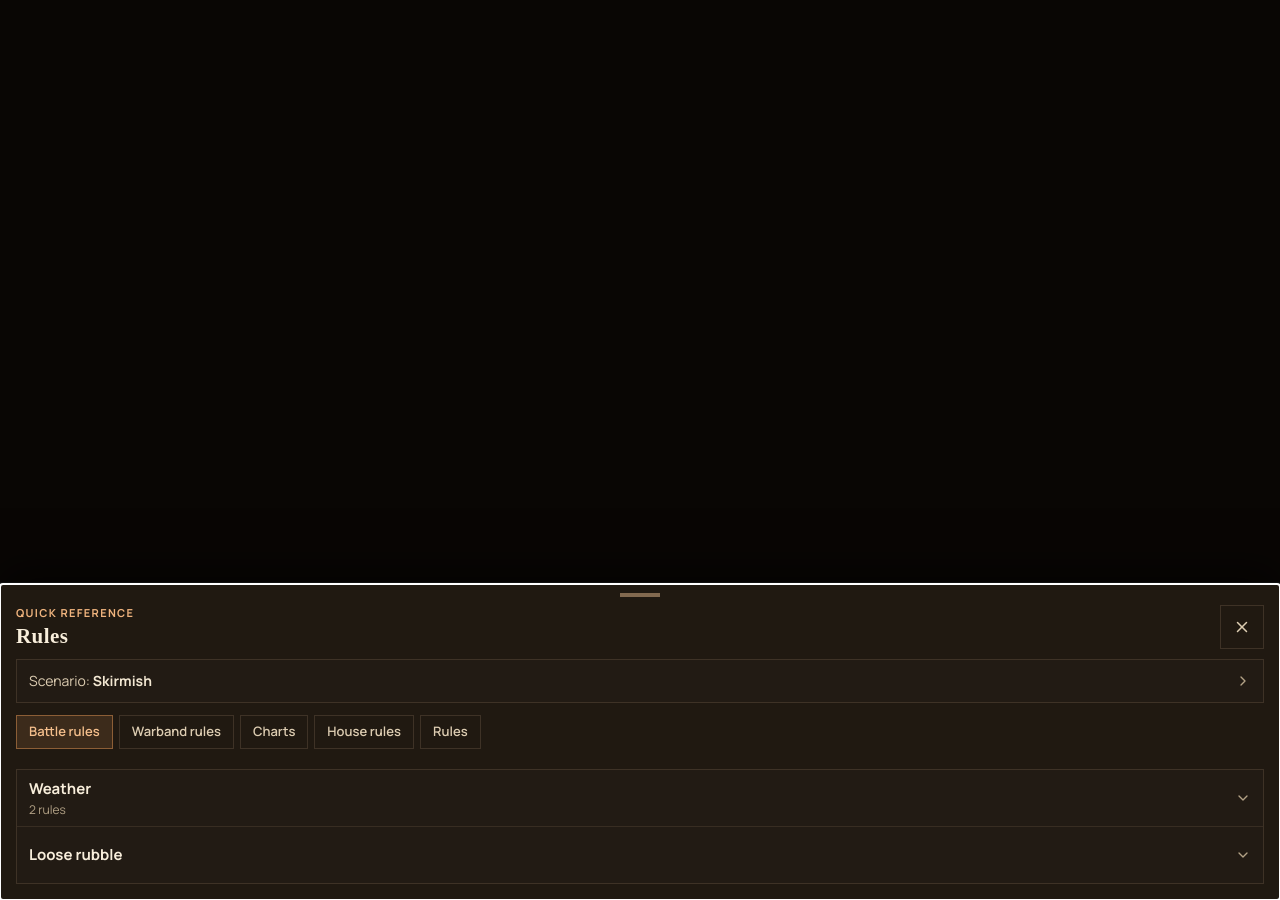
Test: BattleRulesSheet › groups the battle rules by umbrella, as the Campaign rules page does, opening in place
Click the button "Weather 2 rules" at (60, 789), box [17,770,1263,826]
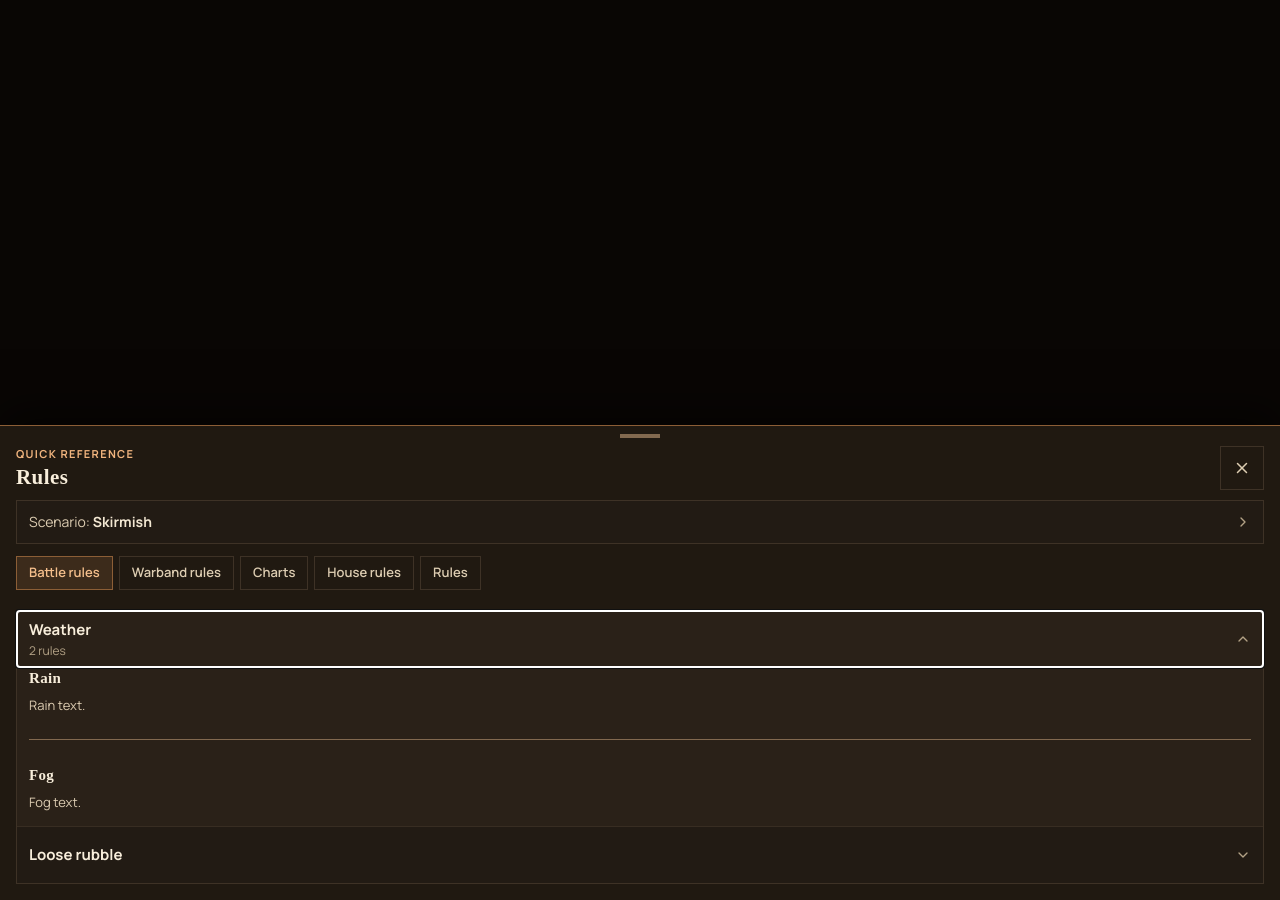
Expected: the button "Weather 2 rules" is expanded, [17,611,1263,667]
Expected: the heading "Rain" is shown, [29,670,61,686]
Expected: the text "Fog text." is shown, [29,792,81,810]
